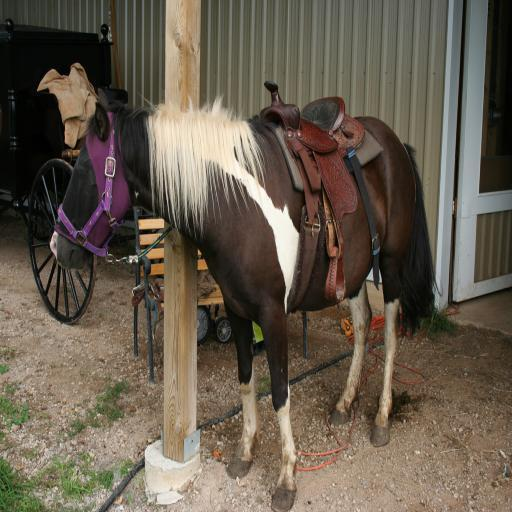horse: (50, 87, 446, 511)
